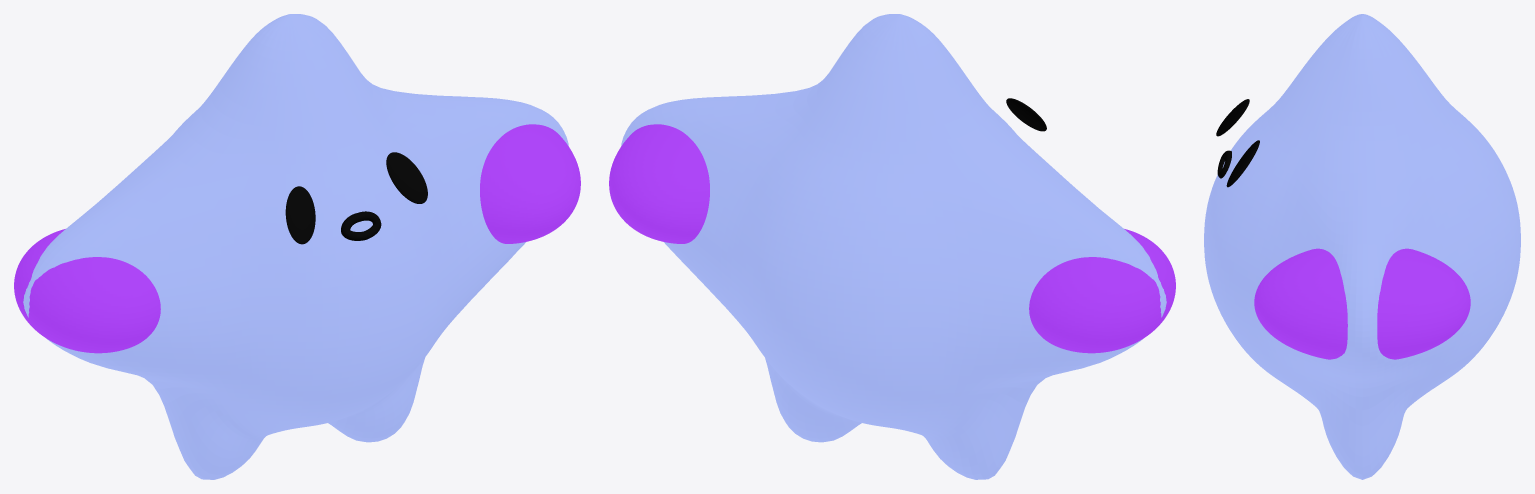
Rendered from luma.glb.
3 renders of one model, left to right at view 1: azimuth 30°, elevation 25°; view 2: azimuth 150°, elevation 25°; view 3: azimuth 270°, elevation 25°, orthographic. The views are drawn at different scales.
Visible parts, largest first — view 1: Sphere.003, Sphere.005, Sphere.001, Sphere.002, Sphere.004, NurbsCircle; view 2: Sphere.003, Sphere.005, Sphere.001, Sphere.002; view 3: Sphere.003, Sphere.001, Sphere.004, Sphere.002.
Part boxes in pixels (box(x1,y1,x2,y2)): Sphere.003: box(23, 14, 568, 479); Sphere.005: box(14, 229, 160, 353); Sphere.001: box(480, 124, 580, 243); Sphere.002: box(285, 186, 315, 244); Sphere.004: box(386, 152, 427, 203); NurbsCircle: box(341, 211, 381, 240); Sphere.003: box(621, 14, 1166, 479); Sphere.005: box(1029, 229, 1175, 353); Sphere.001: box(609, 124, 709, 243); Sphere.002: box(1006, 98, 1046, 131); Sphere.003: box(1204, 14, 1520, 479); Sphere.001: box(1254, 248, 1470, 359); Sphere.004: box(1226, 140, 1259, 187); Sphere.002: box(1216, 99, 1249, 136).
Bounding box in the file's own units: 5.02 × 3.96 × 2.69.
